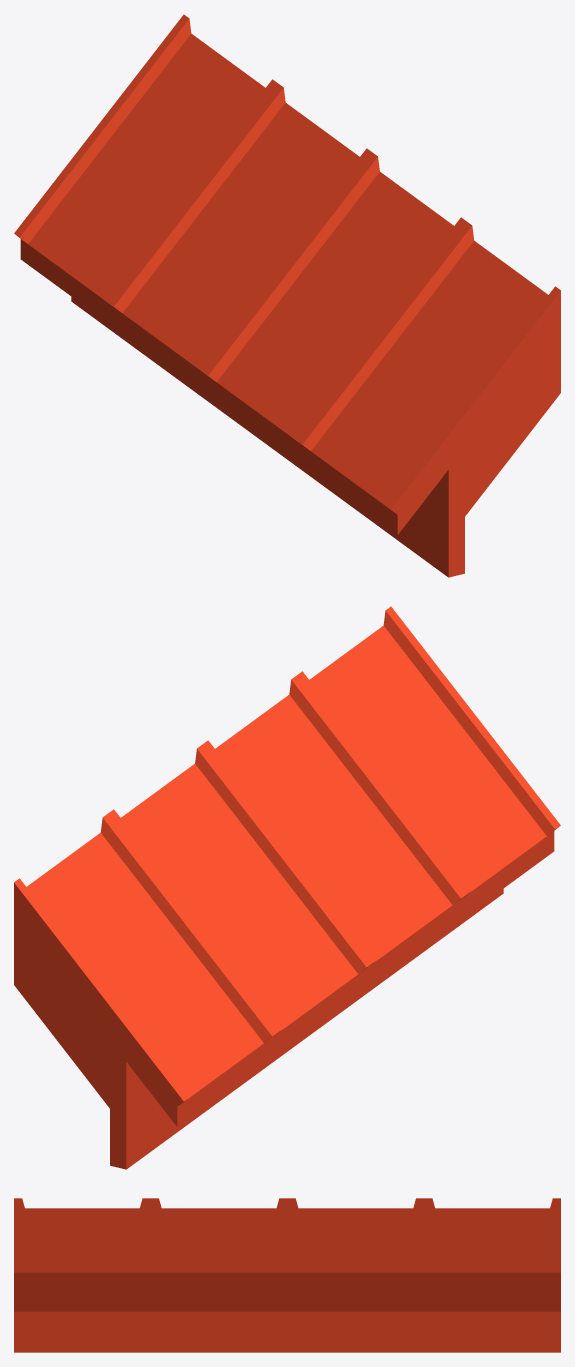
File: roof-metal-regular-2m-edge.fbx
3 views of the same model, one above another, from view 1: azimuth 30°, elevation 25°; view 2: azimuth 150°, elevation 25°; view 3: azimuth 270°, elevation 25° (orthographic). The views are drawn at different scales.
Visible parts, largest first — view 1: roof-metal-regular-2m-edge; view 2: roof-metal-regular-2m-edge; view 3: roof-metal-regular-2m-edge.
Part boxes in pixels (box(x1,y1,x2,y2)): roof-metal-regular-2m-edge: box(14, 14, 560, 577); roof-metal-regular-2m-edge: box(14, 606, 560, 1169); roof-metal-regular-2m-edge: box(14, 1198, 560, 1352).
Bounding box in the file's own units: 0.52 × 0.7602 × 2.
